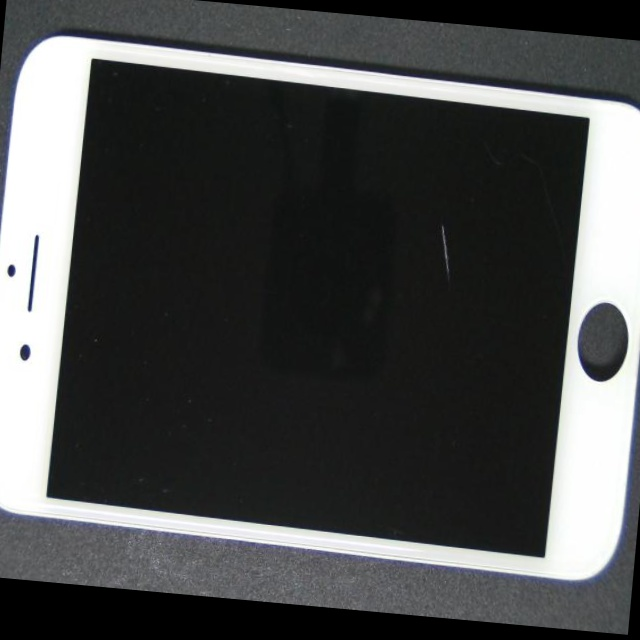scratch: (187, 38, 640, 358)
